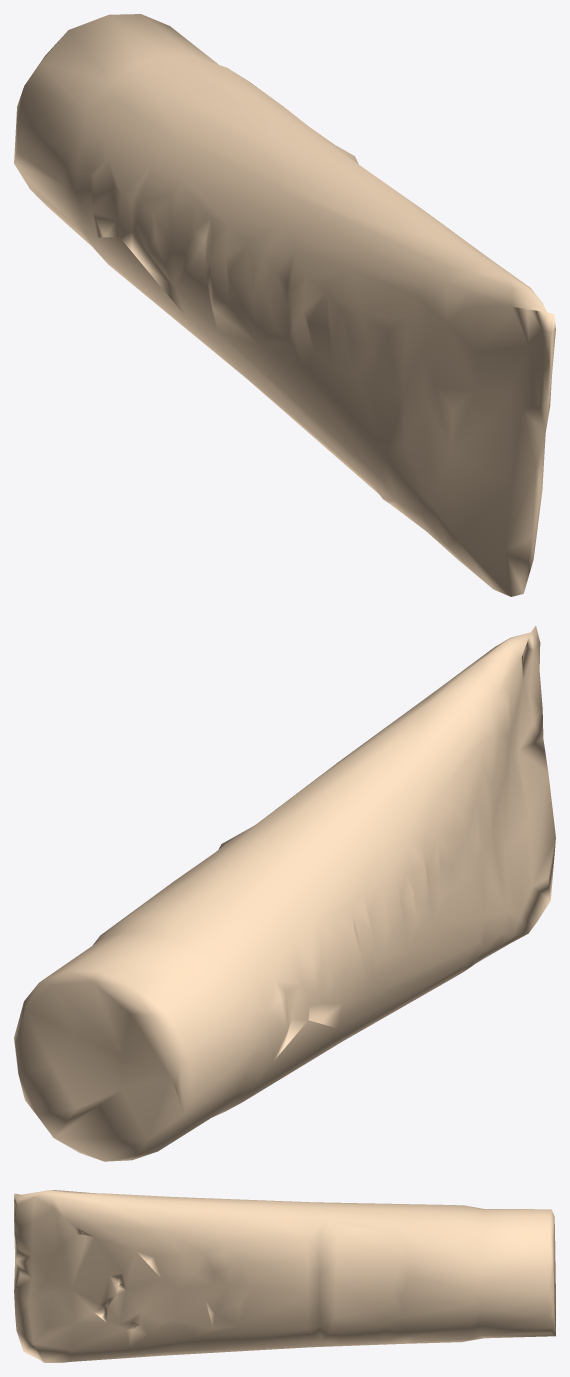
3 renders of one model, top to bottom at view 1: azimuth 30°, elevation 25°; view 2: azimuth 150°, elevation 25°; view 3: azimuth 270°, elevation 25°, orthographic. The views are drawn at different scales.
Parts seen in each view (by area): view 1: Toothpaste_800_tex_019; view 2: Toothpaste_800_tex_019; view 3: Toothpaste_800_tex_019.
Part boxes in pixels (left/top/right/bottom): Toothpaste_800_tex_019: left=14, top=14, right=555, bottom=596; Toothpaste_800_tex_019: left=14, top=626, right=555, bottom=1161; Toothpaste_800_tex_019: left=14, top=1190, right=555, bottom=1362.
Size of the model in its own units: 0.0311 by 0.1241 by 0.045.
